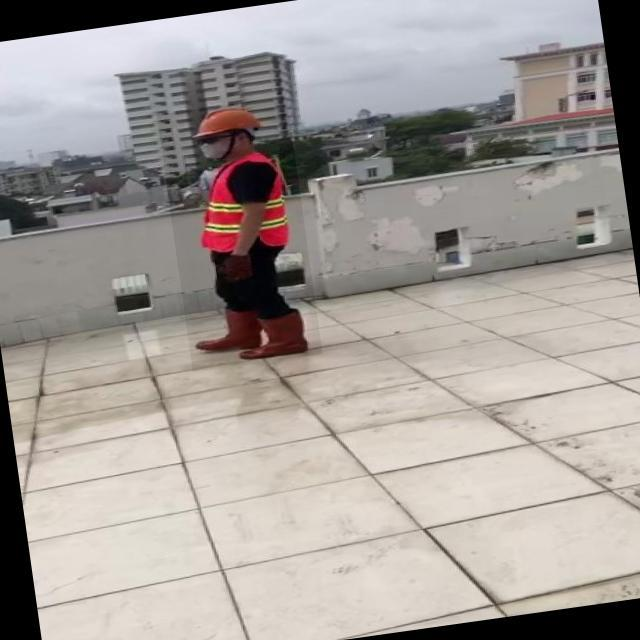Helmet: (188, 104, 263, 138)
Human: (157, 97, 323, 372)
Safety Boot: (238, 311, 315, 362), (194, 308, 265, 355)
Safety Vest: (194, 157, 297, 256)
